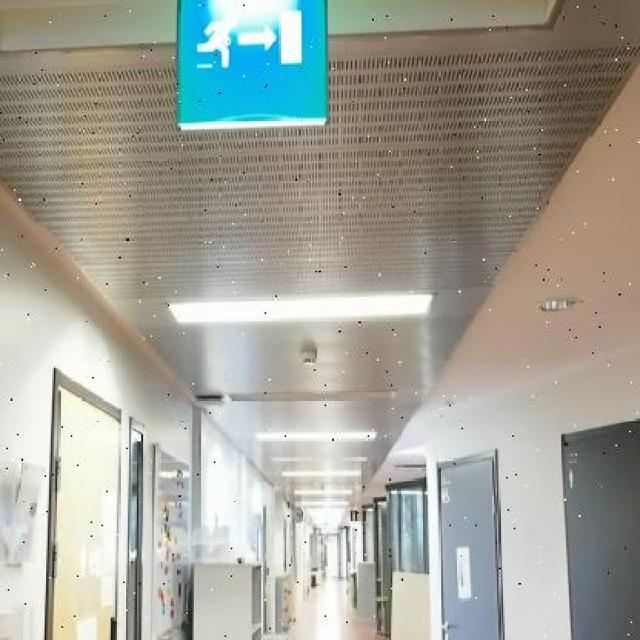emergency_exit: (174, 0, 330, 131)
